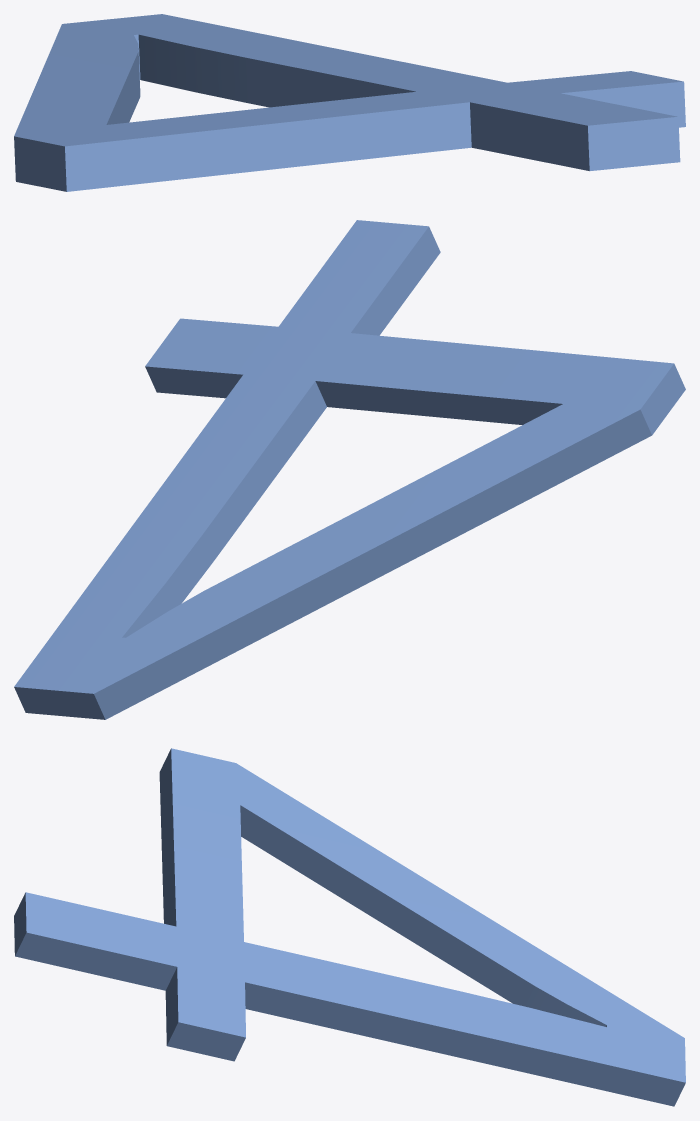
The model's file is New_Number_4.gltf.
3 renders of one model, top to bottom at view 1: azimuth 30°, elevation 25°; view 2: azimuth 150°, elevation 25°; view 3: azimuth 270°, elevation 25°, orthographic. The views are drawn at different scales.
Parts seen in each view (by area): view 1: Part 652; view 2: Part 652; view 3: Part 652.
Part boxes in pixels (x1,y1,x2,y2): Part 652: (14,14,685,191); Part 652: (14,220,685,719); Part 652: (14,748,685,1106).
Size of the model in its own units: 0.00411 by 0.00181 by 0.00545.
